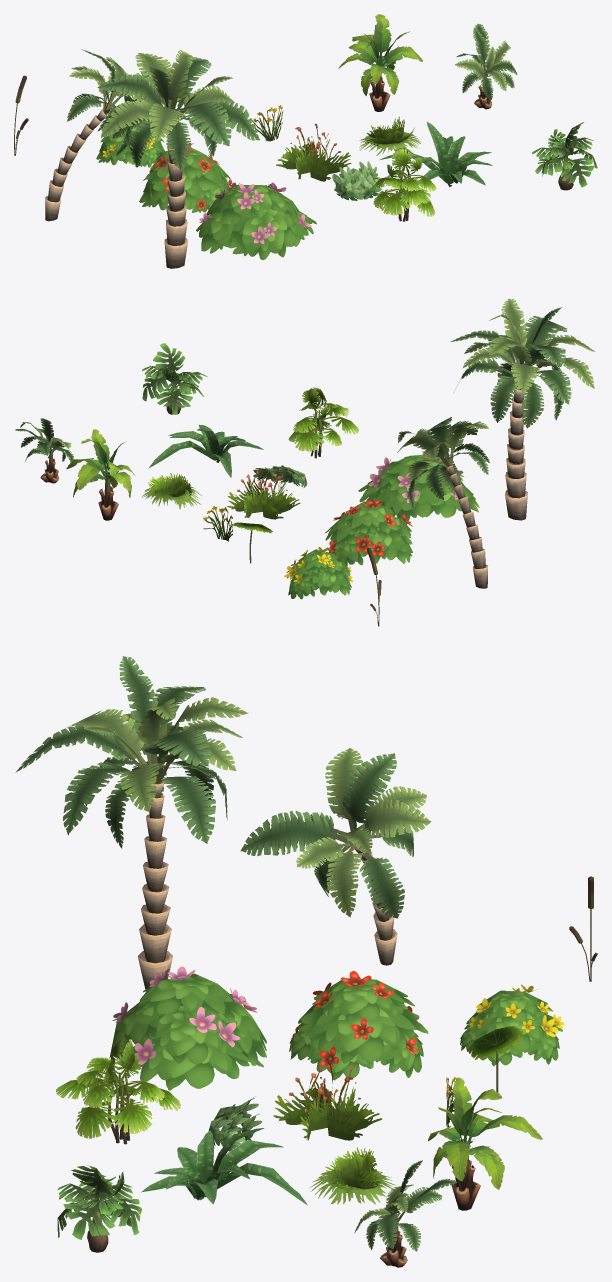
The model's file is Plants_Group.FBX.
3 renders of one model, top to bottom at view 1: azimuth 30°, elevation 25°; view 2: azimuth 150°, elevation 25°; view 3: azimuth 270°, elevation 25°, orthographic. The views are drawn at different scales.
Parts seen in each view (by area): view 1: PalmTree_Stright, Bushes_Pink, Palm_Tree_Curved, Bushes_Red, Palm_Tree_Small, Palm_Grass_BIG, Palm_Tree_Small_02, Palm_Tree_Tiny, Small_Plant_Palm, Flowers, Small_Grass, Bushes_Yellow (+2 smaller); view 2: PalmTree_Stright, Palm_Tree_Curved, Bushes_Red, Bushes_Pink, Bushes_Yellow, Palm_Tree_Tiny, Palm_Grass_BIG, Palm_Tree_Small, Flowers, Small_Plant_Palm, Palm_Tree_Small_02, Grass (+2 smaller); view 3: PalmTree_Stright, Palm_Tree_Curved, Bushes_Pink, Bushes_Red, Palm_Grass_BIG, Palm_Tree_Small, Bushes_Yellow, Small_Plant_Palm, Palm_Tree_Tiny, Flowers, Palm_Tree_Small_02, Grass (+2 smaller).
Boxes of the visible parts, x1,y1,x2,y2 form: PalmTree_Stright: (97, 49, 259, 268); Bushes_Pink: (196, 182, 316, 259); Palm_Tree_Curved: (45, 49, 177, 221); Bushes_Red: (139, 143, 232, 212); Palm_Tree_Small: (338, 14, 422, 111); Palm_Grass_BIG: (370, 147, 436, 221); Palm_Tree_Small_02: (455, 23, 517, 109); Palm_Tree_Tiny: (532, 122, 597, 190); Small_Plant_Palm: (380, 122, 492, 187); Flowers: (276, 123, 351, 181); Small_Grass: (332, 161, 384, 200); Bushes_Yellow: (96, 124, 164, 167); PalmTree_Stright: (451, 298, 595, 520); Palm_Tree_Curved: (397, 417, 489, 588); Bushes_Red: (325, 499, 412, 565); Bushes_Pink: (358, 451, 479, 524); Bushes_Yellow: (284, 547, 353, 599); Palm_Tree_Tiny: (142, 343, 207, 414); Palm_Grass_BIG: (288, 387, 358, 458); Palm_Tree_Small: (66, 429, 134, 520); Flowers: (227, 470, 300, 519); Small_Plant_Palm: (148, 424, 263, 477); Palm_Tree_Small_02: (15, 418, 73, 483); Grass: (142, 473, 201, 509); PalmTree_Stright: (15, 656, 248, 991); Palm_Tree_Curved: (240, 748, 431, 965); Bushes_Pink: (109, 966, 266, 1090); Bushes_Red: (289, 971, 428, 1080); Palm_Grass_BIG: (56, 1036, 180, 1144); Palm_Tree_Small: (428, 1077, 542, 1210); Bushes_Yellow: (460, 984, 564, 1066); Small_Plant_Palm: (141, 1128, 307, 1205); Palm_Tree_Tiny: (57, 1165, 141, 1252); Flowers: (273, 1058, 381, 1140); Palm_Tree_Small_02: (354, 1160, 457, 1267); Grass: (310, 1147, 395, 1204).
Size of the model in its own units: 1094 by 472 by 761.
